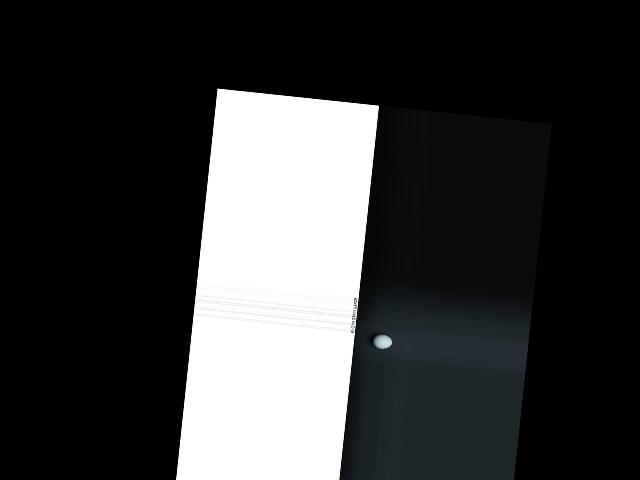egg: (372, 333, 392, 349)
